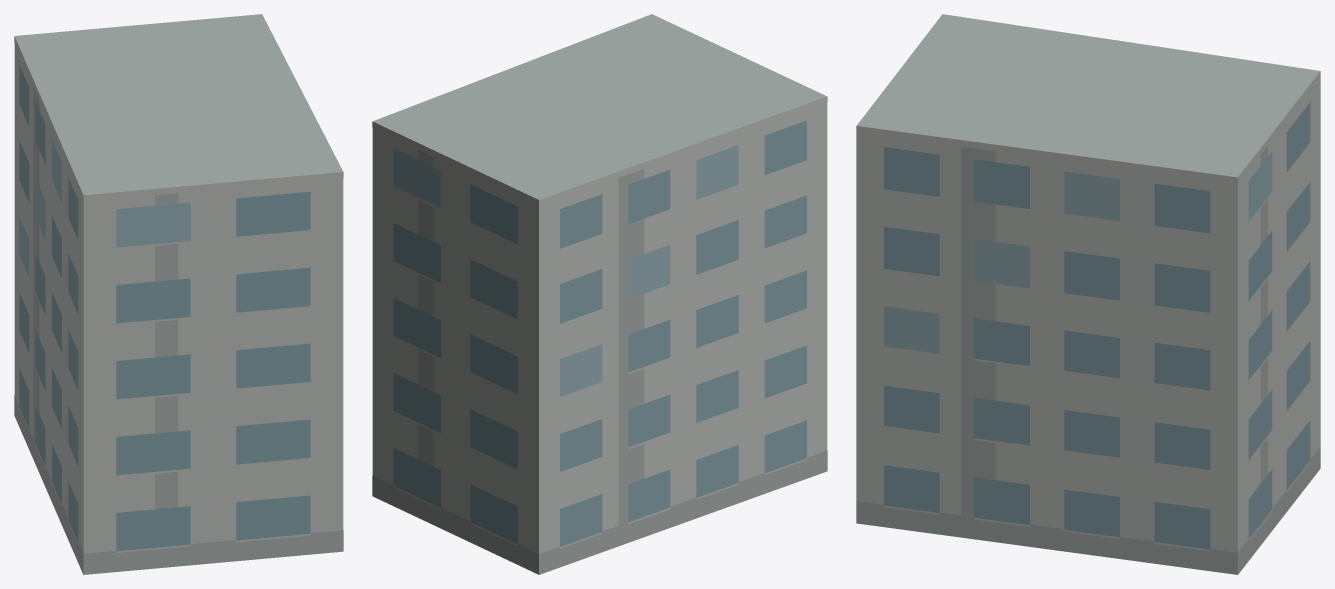
Rendered from survey-upis-32883307.glb.
3 renders of one model, left to right at view 1: azimuth 30°, elevation 25°; view 2: azimuth 150°, elevation 25°; view 3: azimuth 270°, elevation 25°, orthographic. The views are drawn at different scales.
Parts seen in each view (by area): view 1: survey-upis-32883307.tmp; view 2: survey-upis-32883307.tmp; view 3: survey-upis-32883307.tmp.
Part boxes in pixels (bbox=[...]): survey-upis-32883307.tmp: bbox=[14, 14, 343, 574]; survey-upis-32883307.tmp: bbox=[372, 14, 827, 574]; survey-upis-32883307.tmp: bbox=[856, 14, 1320, 574].
Bounding box in the file's own units: 12.52 × 14.2 × 15.03.
